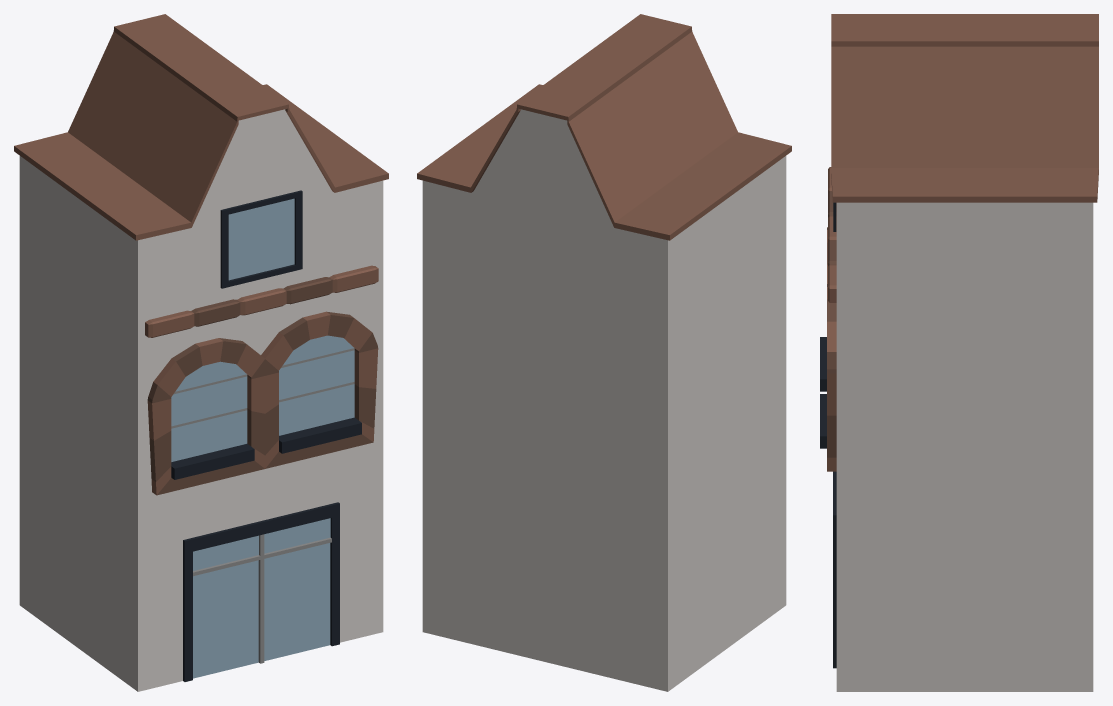
The model's file is House2Level2.fbx.
The picture shows the model from 3 angles, left to right: view 1: azimuth 30°, elevation 25°; view 2: azimuth 150°, elevation 25°; view 3: azimuth 270°, elevation 25°; orthographic projection. The views are drawn at different scales.
Parts seen in each view (by area): view 1: House2Lvl2.001; view 2: House2Lvl2.001; view 3: House2Lvl2.001.
Boxes of the visible parts, x1,y1,x2,y2 form: House2Lvl2.001: (14,14,388,691); House2Lvl2.001: (417,14,791,691); House2Lvl2.001: (820,14,1098,691).
Size of the model in its own units: 62.79 by 131 by 55.35.
